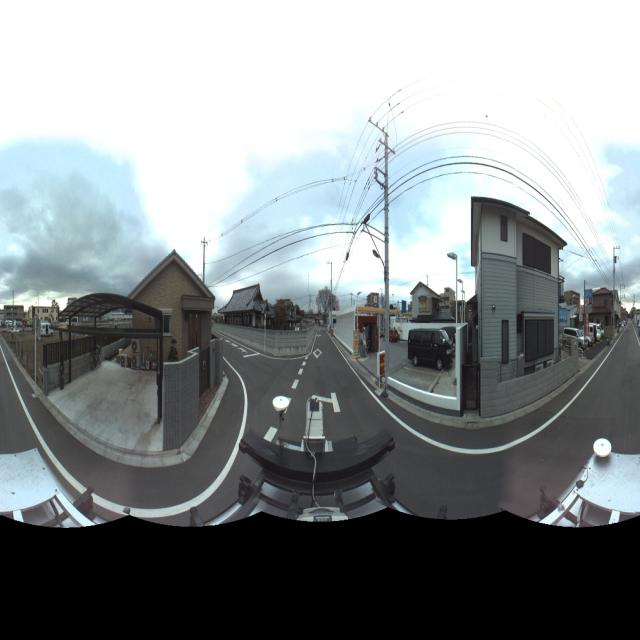b_1: (463, 191, 566, 389), (137, 254, 216, 370), (220, 279, 270, 349), (587, 278, 620, 359)
